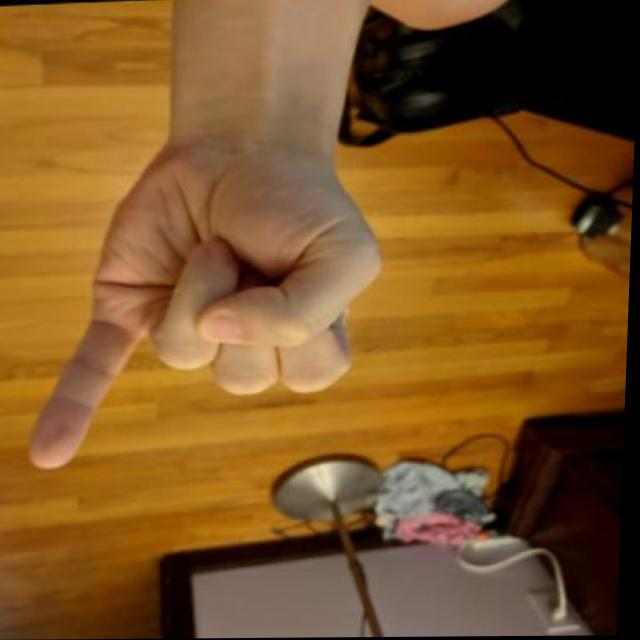I: (13, 120, 405, 475)
